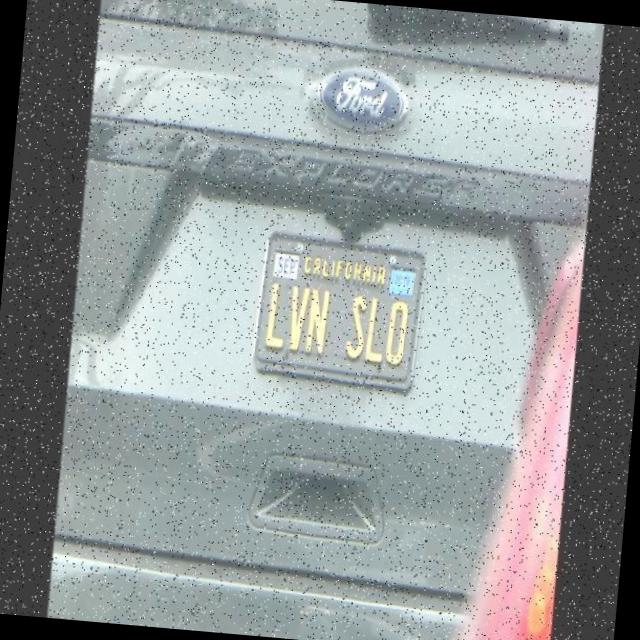LicensePlate: (238, 201, 441, 432)
